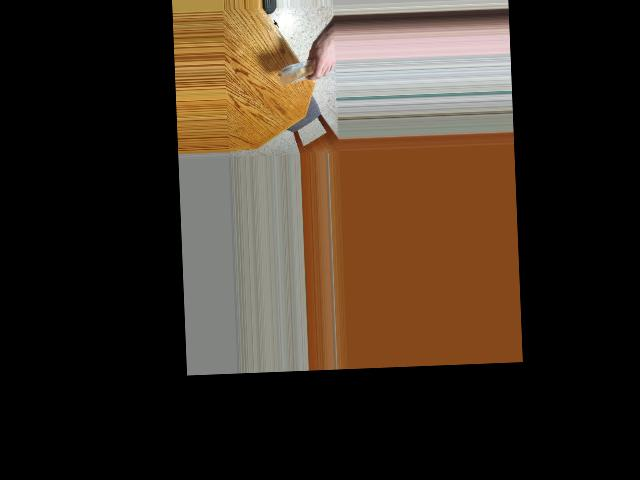cheese: (282, 53, 316, 85)
